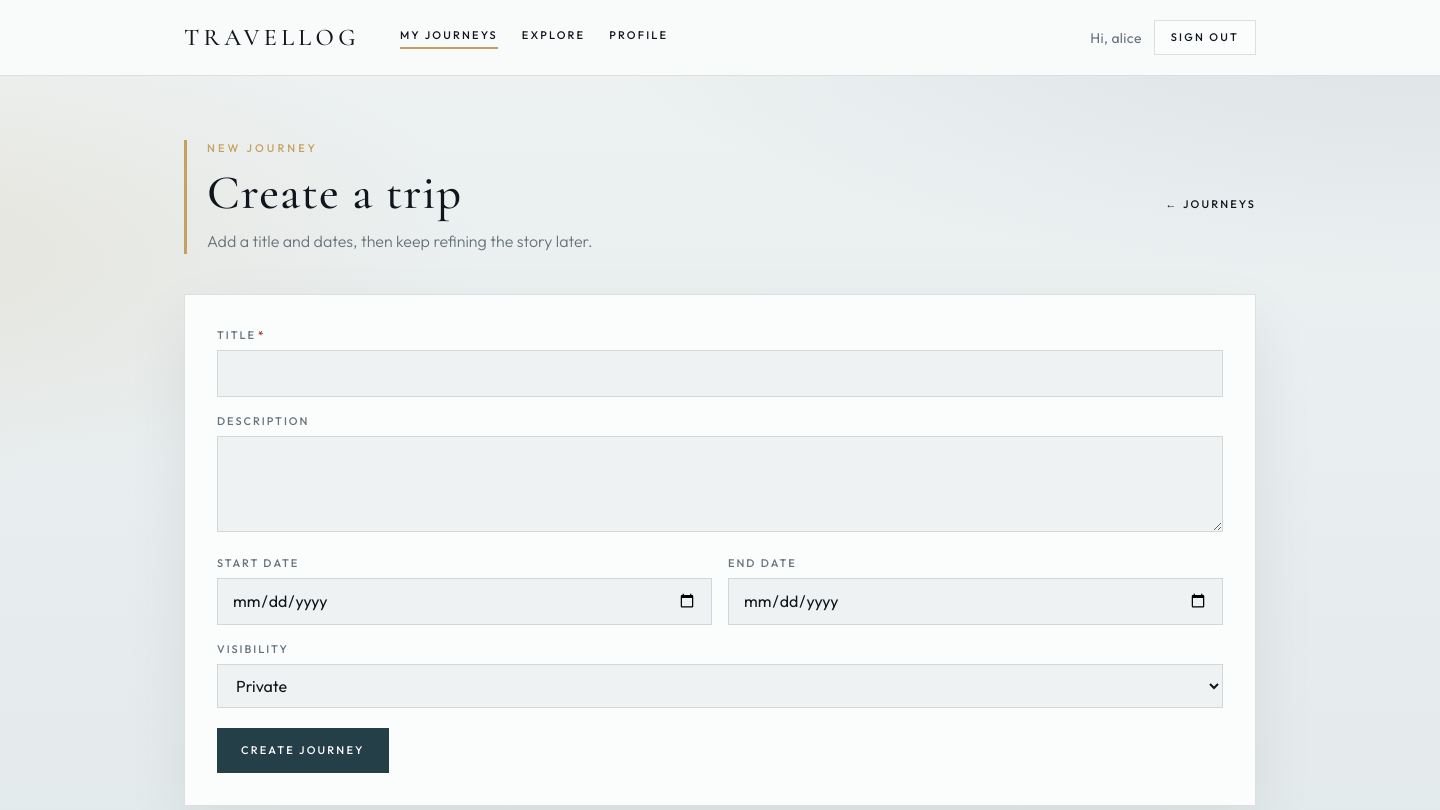
Test case: JourneyCreatePage › shows API validation errors
Expected: the heading "Create a trip" is shown, x1=207 y1=169 x2=462 y2=217
Type "x" into the field labelled "Title*" at (720, 373), box x1=217 y1=350 x2=1223 y2=397
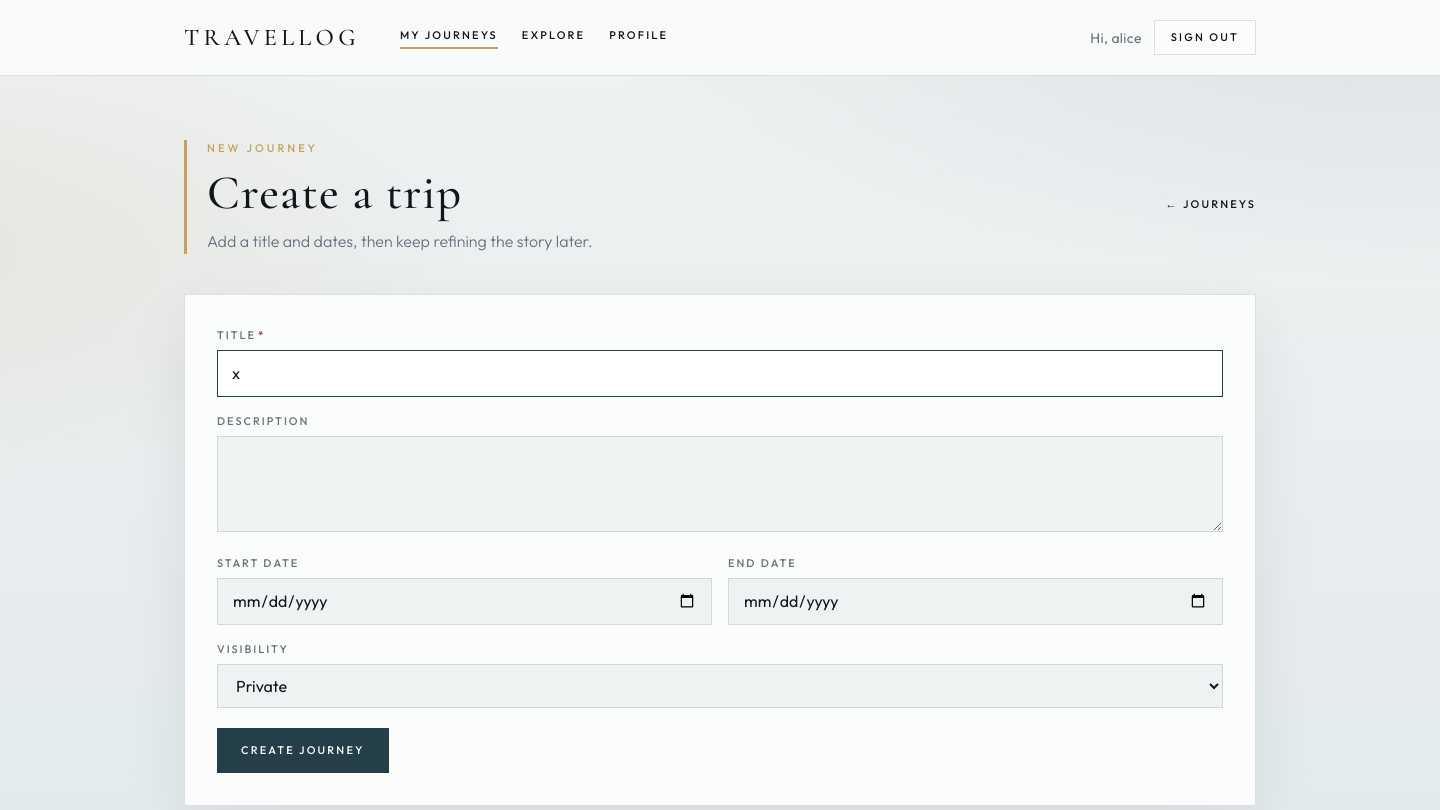
Click the button "Create journey" at (303, 750), box x1=217 y1=728 x2=388 y2=773
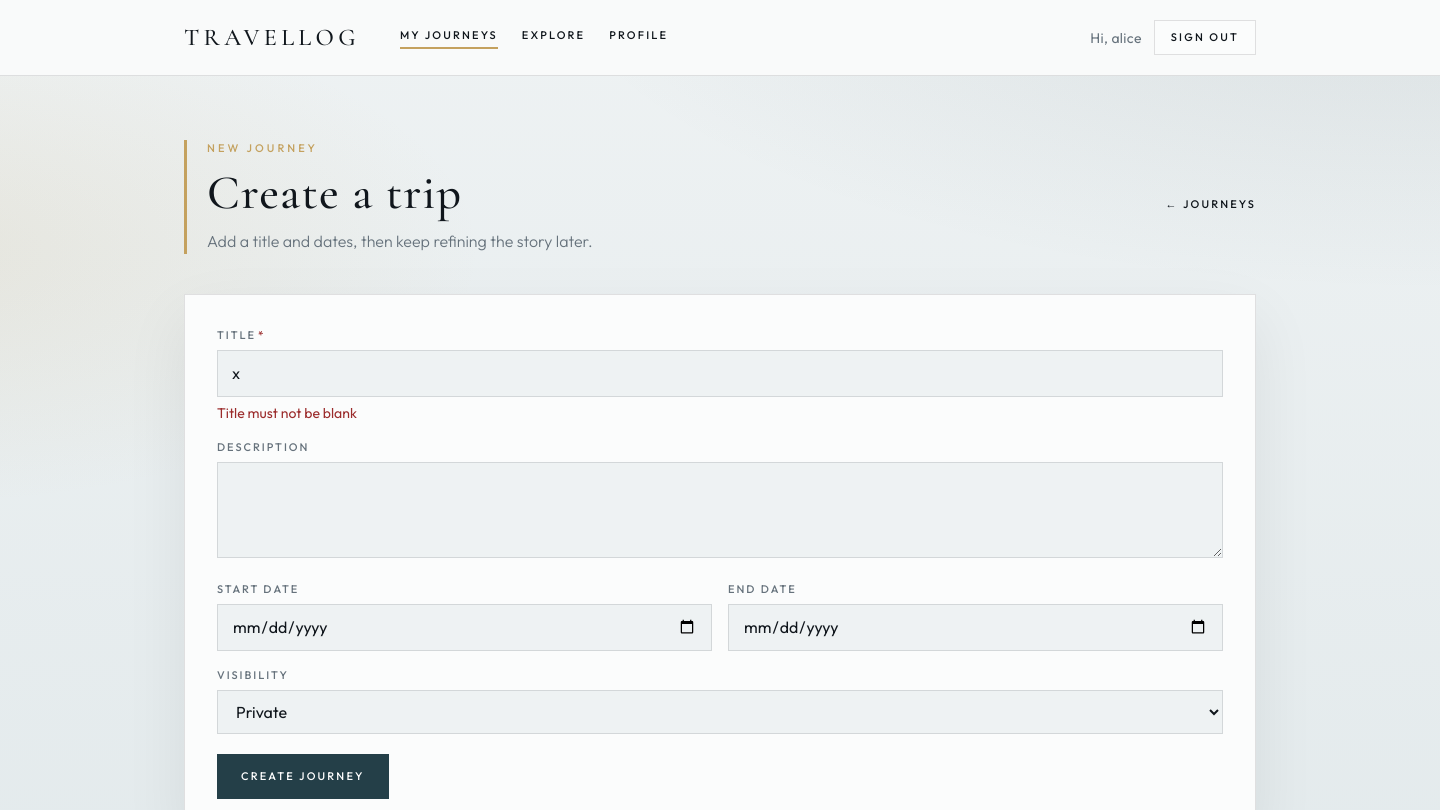
Expected: the text "Title must not be blank" is shown, x1=217 y1=404 x2=357 y2=422
